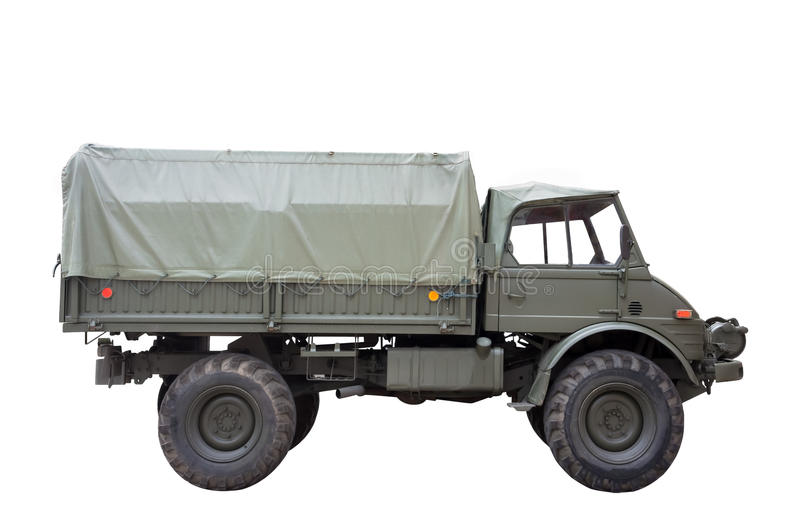camion: (64, 145, 767, 494)
